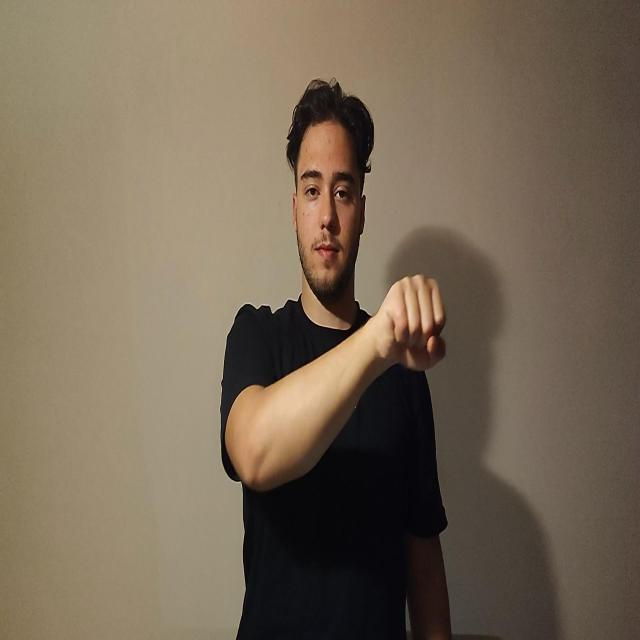yes: (372, 272, 446, 373)
